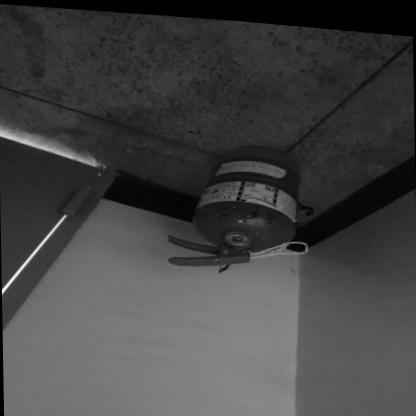FE: (167, 134, 298, 269)
